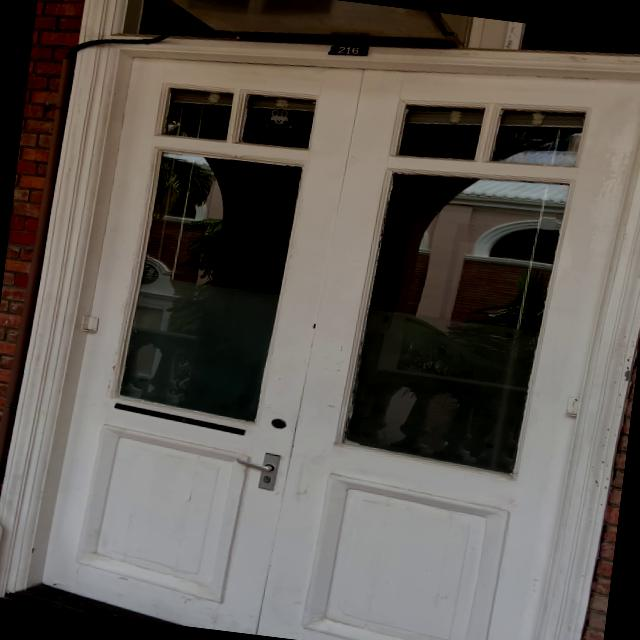room216: (324, 39, 368, 60)
